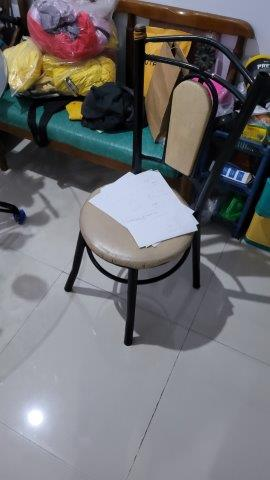kertas: (88, 166, 201, 244)
